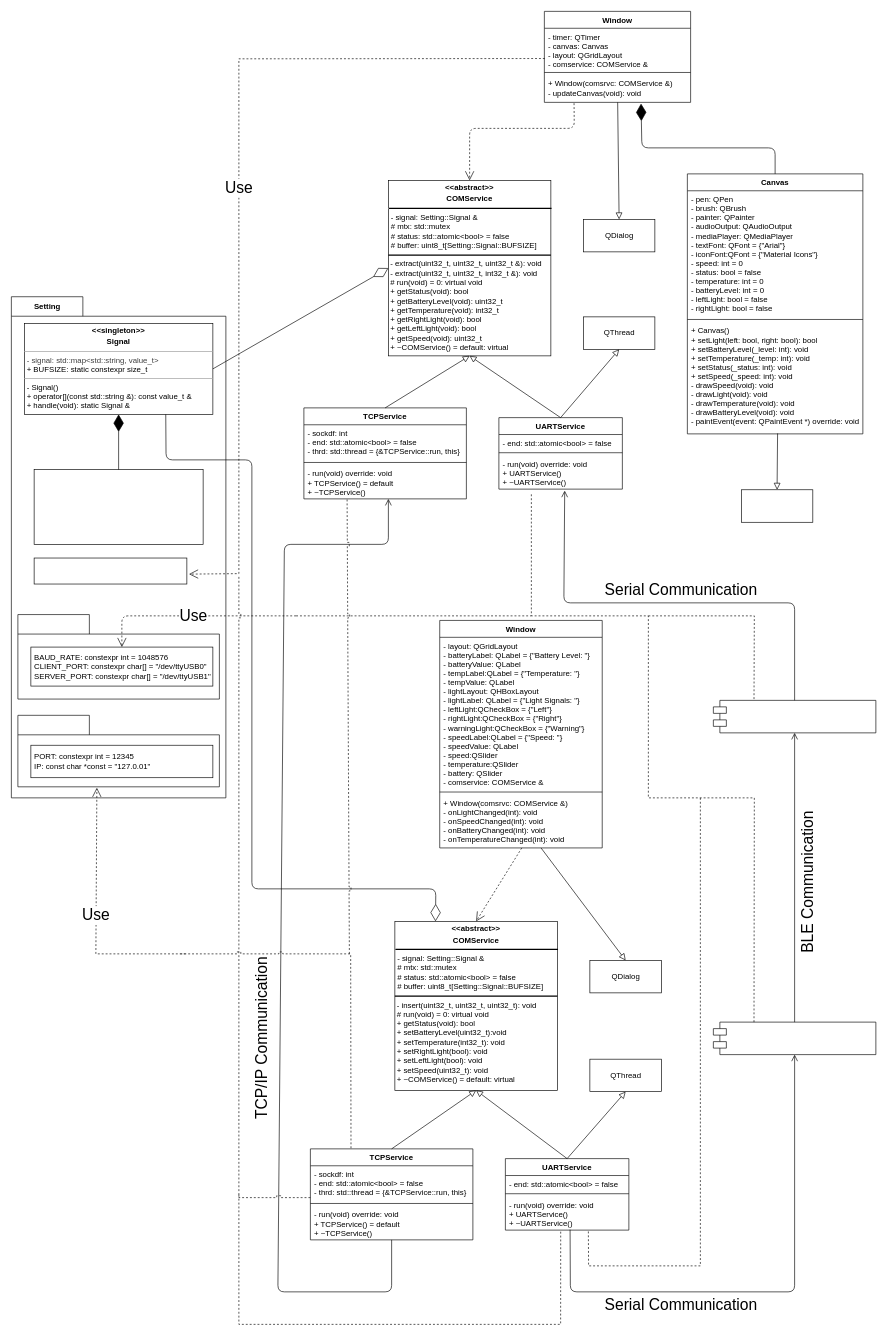
Image size: 887x1336. Some labels were removed from this diagram. Each missing label, with the centre of its shape:
"<<struct>> value_t + min: int + max: int + start: int + length: int" goes at point (118, 506).
"ESP32 Client" goes at point (794, 716).
"ESP32 Server" goes at point (794, 1038).
"INTERVAL: constexpr int = 40" goes at point (110, 570).
"QWidget" goes at point (777, 505).
"TCP" goes at point (118, 751).
"UART" goes at point (118, 656).
